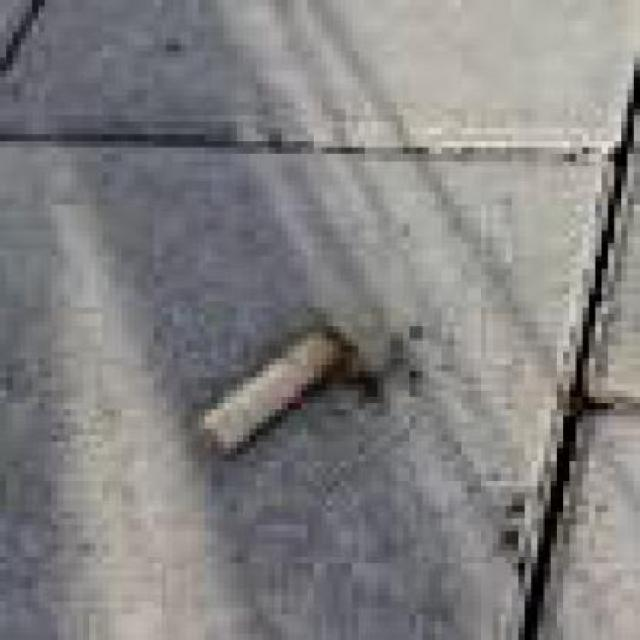cigarette: (198, 313, 364, 499)
